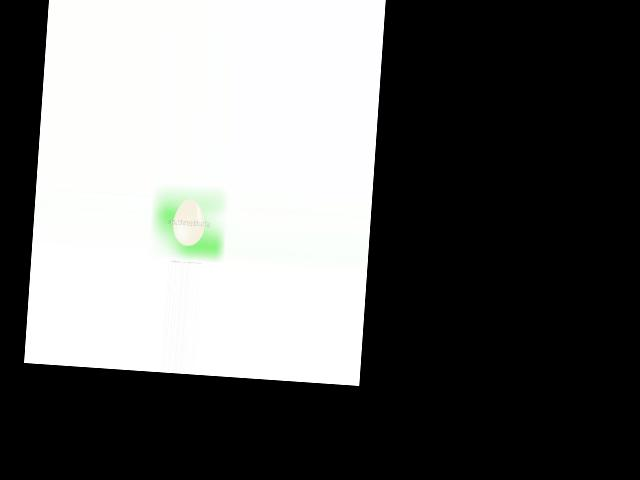egg: (171, 198, 205, 246)
